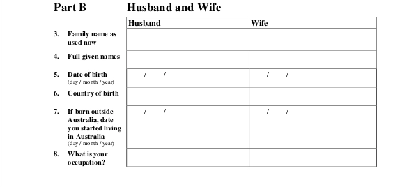textbox: (247, 102, 379, 150), (123, 104, 251, 151), (248, 26, 378, 52), (125, 26, 250, 52), (247, 145, 380, 169), (247, 84, 378, 108), (123, 145, 252, 169), (247, 48, 378, 71), (248, 66, 378, 89), (124, 84, 251, 107), (124, 66, 250, 89), (125, 49, 251, 70)
